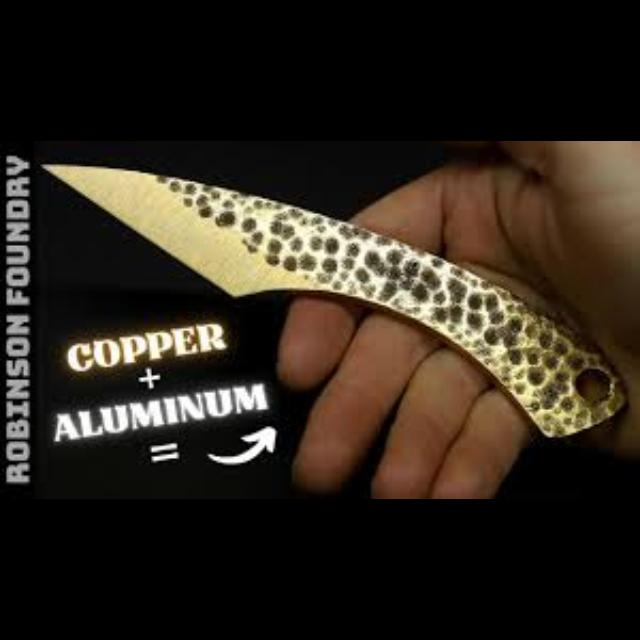Knife: (39, 160, 629, 440)
